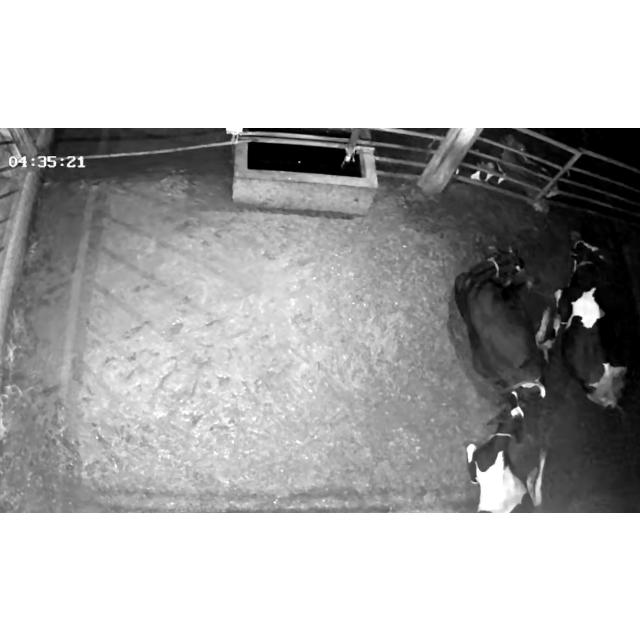lay: (442, 229, 550, 397), (556, 224, 640, 422), (446, 396, 556, 512)
